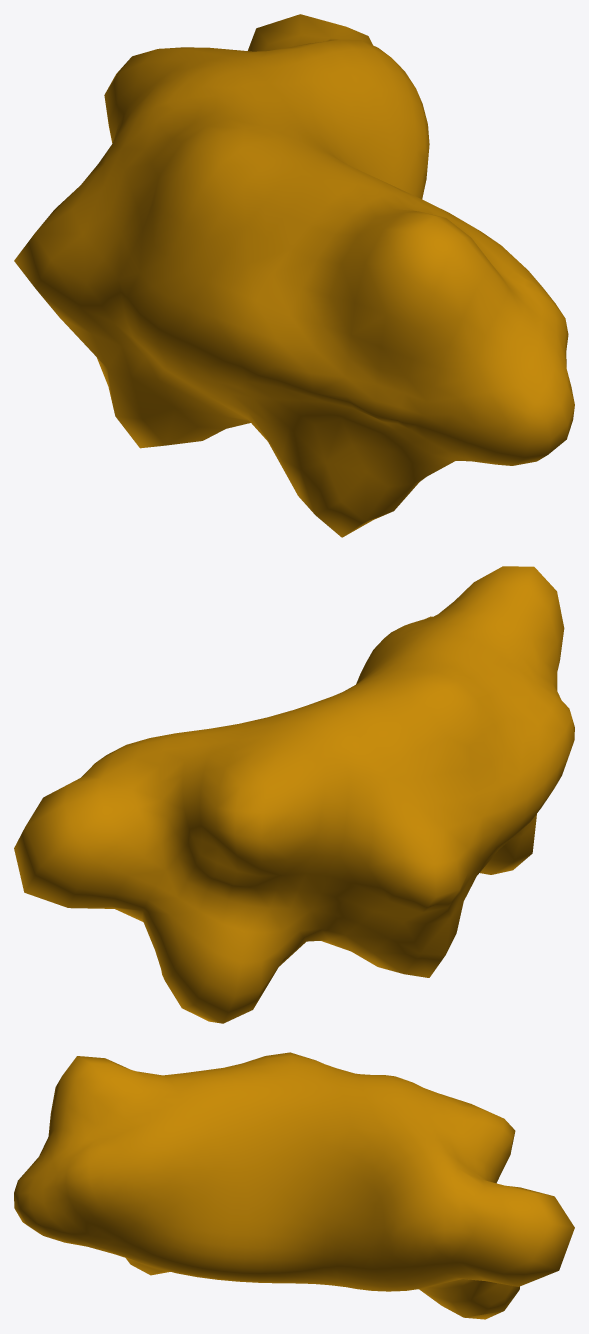
Rendered from Kidney_RenalSinus_Right.FBX.
The picture shows the model from 3 angles, top to bottom: view 1: azimuth 30°, elevation 25°; view 2: azimuth 150°, elevation 25°; view 3: azimuth 270°, elevation 25°; orthographic projection. The views are drawn at different scales.
Visible parts, largest first — view 1: Kidney_RenalSinus_Right-Snapshot; view 2: Kidney_RenalSinus_Right-Snapshot; view 3: Kidney_RenalSinus_Right-Snapshot.
Boxes of the visible parts, <box> form: Kidney_RenalSinus_Right-Snapshot: <box>14,14,574,537</box>; Kidney_RenalSinus_Right-Snapshot: <box>14,566,574,1023</box>; Kidney_RenalSinus_Right-Snapshot: <box>14,1052,574,1319</box>.
Size of the model in its own units: 34.71 by 27.12 by 58.54.
